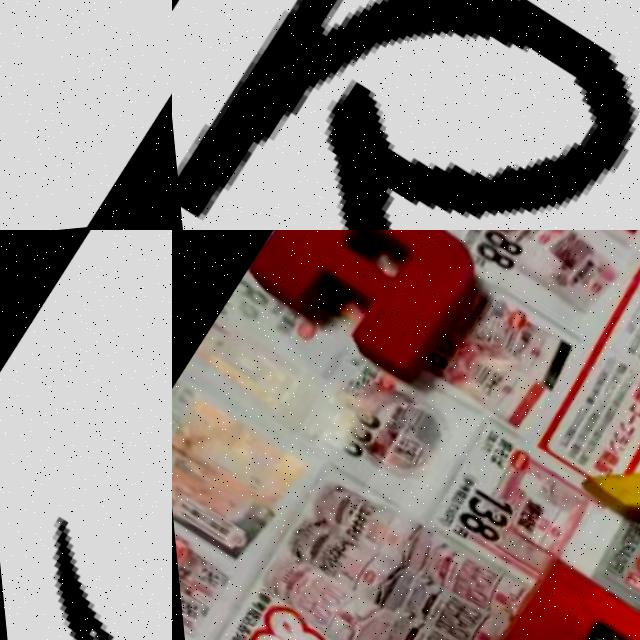3: (0, 230, 172, 640)
A: (233, 230, 497, 406)
E: (452, 550, 640, 640)
K: (172, 0, 640, 230)
X: (567, 366, 640, 640)
